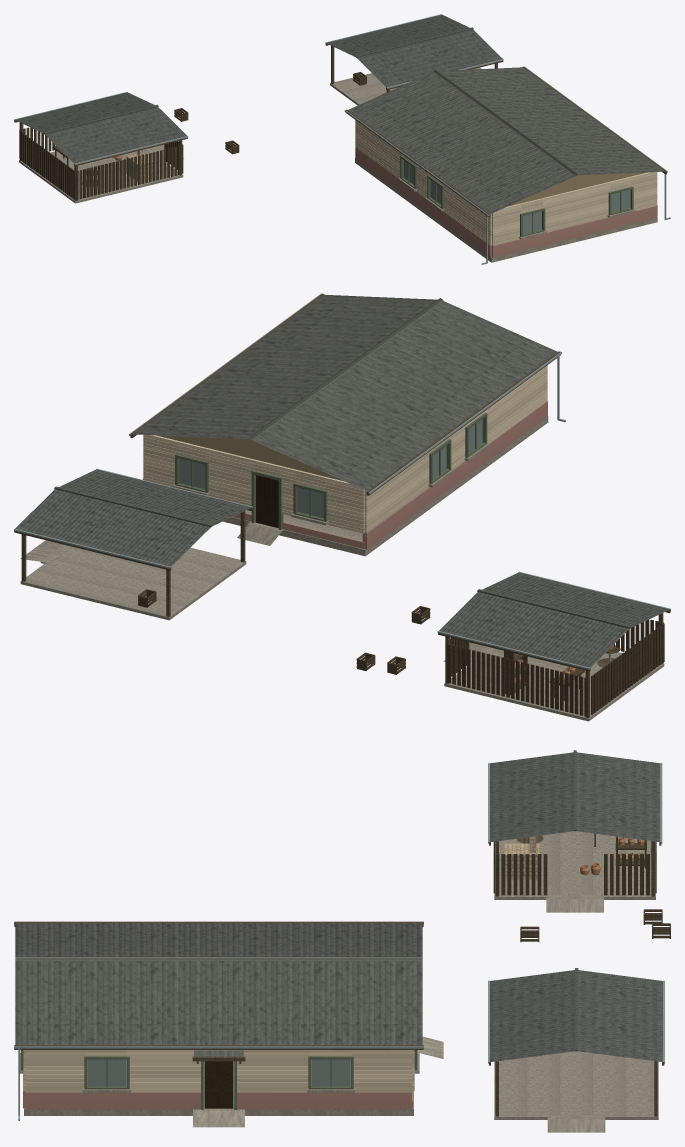
3 views of the same model, one above another, from view 1: azimuth 30°, elevation 25°; view 2: azimuth 150°, elevation 25°; view 3: azimuth 270°, elevation 25° (orthographic). The views are drawn at different scales.
Parts seen in each view (by area): view 1: H31_CHAPAS_ONDULADAS, H31_GARAGEM_COBERTURA, H31_ATELIER_COBERTURA, H31_ATELIER_RIPAS, H31_LATERAIS_REVESTIMENTO, H31_FUNDOS_REVESTIMENTO, H31_LATERAIS_MINERAL, H31_ATELIER_BASE, H31_FUNDOS_MINERAL, H31_FUNDACAO, H31_VIDROS_RECUADOS, H31_OITOES (+6 smaller); view 2: H31_CHAPAS_ONDULADAS, H31_GARAGEM_COBERTURA, H31_ATELIER_COBERTURA, H31_GARAGEM_BASE, H31_ATELIER_RIPAS, H31_LATERAIS_REVESTIMENTO, H31_FUNDOS_REVESTIMENTO, H31_ATELIER_BASE, H31_FUNDOS_MINERAL, H31_FUNDACAO, H31_VIDROS_RECUADOS, H31_OITOES (+9 smaller); view 3: H31_CHAPAS_ONDULADAS, H31_GARAGEM_COBERTURA, H31_ATELIER_COBERTURA, H31_FACHADA_REVESTIMENTO, H31_GARAGEM_BASE, H31_FACHADA_MINERAL, H31_ATELIER_BASE, H31_ATELIER_RIPAS, H31_FUNDACAO, H31_BEIRAIS, H31_VIDROS_RECUADOS, H31_CUMEEIRA (+7 smaller).
Boxes of the visible parts, left/top/right/bottom form: H31_CHAPAS_ONDULADAS: left=348, top=67, right=664, bottom=213; H31_GARAGEM_COBERTURA: left=326, top=14, right=502, bottom=87; H31_ATELIER_COBERTURA: left=15, top=92, right=186, bottom=163; H31_ATELIER_RIPAS: left=19, top=127, right=183, bottom=199; H31_LATERAIS_REVESTIMENTO: left=492, top=172, right=656, bottom=245; H31_FUNDOS_REVESTIMENTO: left=355, top=120, right=491, bottom=245; H31_LATERAIS_MINERAL: left=492, top=206, right=656, bottom=257; H31_ATELIER_BASE: left=19, top=149, right=183, bottom=203; H31_FUNDOS_MINERAL: left=355, top=147, right=491, bottom=257; H31_FUNDACAO: left=355, top=158, right=657, bottom=262; H31_VIDROS_RECUADOS: left=404, top=160, right=630, bottom=234; H31_OITOES: left=508, top=172, right=647, bottom=206; H31_CHAPAS_ONDULADAS: left=133, top=294, right=557, bottom=491; H31_GARAGEM_COBERTURA: left=15, top=469, right=251, bottom=566; H31_ATELIER_COBERTURA: left=439, top=572, right=669, bottom=667; H31_GARAGEM_BASE: left=20, top=546, right=246, bottom=620; H31_ATELIER_RIPAS: left=447, top=619, right=664, bottom=716; H31_LATERAIS_REVESTIMENTO: left=144, top=435, right=364, bottom=533; H31_FUNDOS_REVESTIMENTO: left=364, top=365, right=547, bottom=533; H31_ATELIER_BASE: left=444, top=649, right=664, bottom=721; H31_FUNDOS_MINERAL: left=362, top=401, right=547, bottom=549; H31_FUNDACAO: left=223, top=416, right=548, bottom=556; H31_VIDROS_RECUADOS: left=179, top=419, right=482, bottom=518; H31_OITOES: left=156, top=435, right=343, bottom=481; H31_CHAPAS_ONDULADAS: left=15, top=922, right=422, bottom=1045; H31_GARAGEM_COBERTURA: left=490, top=970, right=662, bottom=1062; H31_ATELIER_COBERTURA: left=490, top=752, right=660, bottom=842; H31_FACHADA_REVESTIMENTO: left=25, top=1050, right=411, bottom=1092; H31_GARAGEM_BASE: left=494, top=1051, right=658, bottom=1119; H31_FACHADA_MINERAL: left=25, top=1092, right=411, bottom=1109; H31_ATELIER_BASE: left=494, top=831, right=655, bottom=899; H31_ATELIER_RIPAS: left=493, top=841, right=656, bottom=895; H31_FUNDACAO: left=24, top=1060, right=413, bottom=1115; H31_BEIRAIS: left=14, top=921, right=423, bottom=1049; H31_VIDROS_RECUADOS: left=87, top=1059, right=350, bottom=1086; H31_CUMEEIRA: left=15, top=957, right=422, bottom=960.
Bounding box in the file's own units: 26.83 × 4.07 × 23.98.
14 materials, 9 textured.
